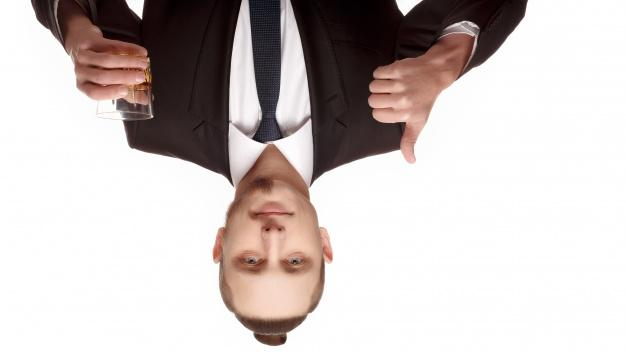thumbsdown: (368, 65, 418, 164)
